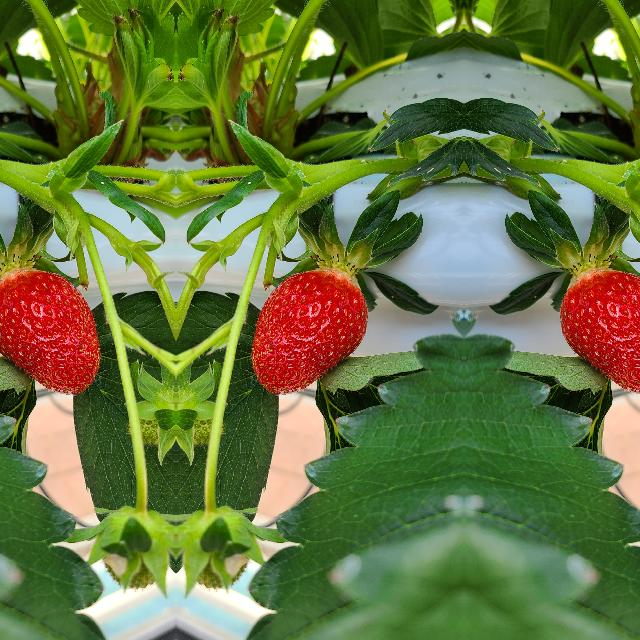Health_100: (250, 266, 368, 396), (0, 266, 100, 395), (558, 266, 640, 395)
